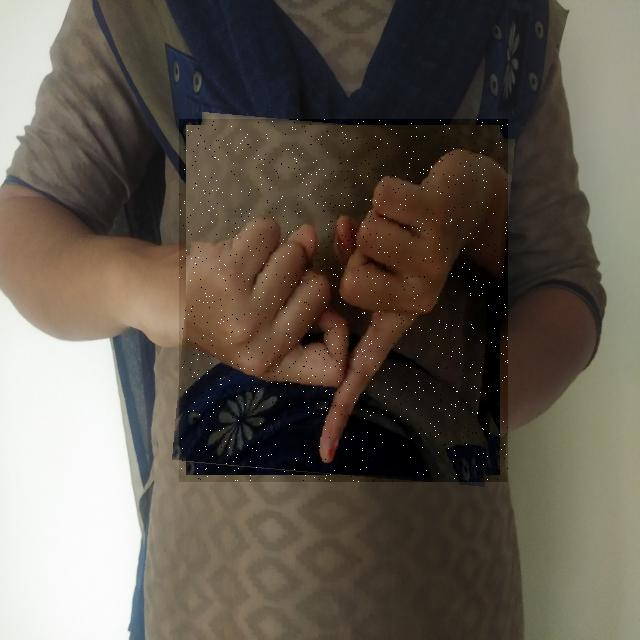K: (179, 119, 508, 482)
